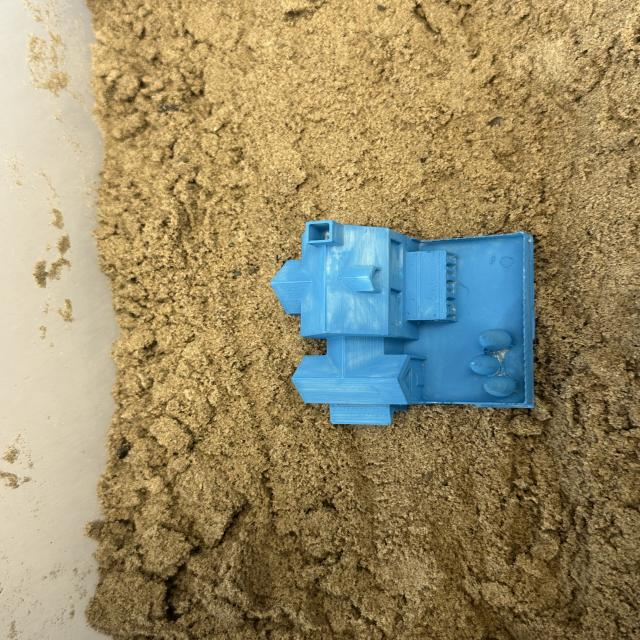house: (268, 221, 540, 426)
